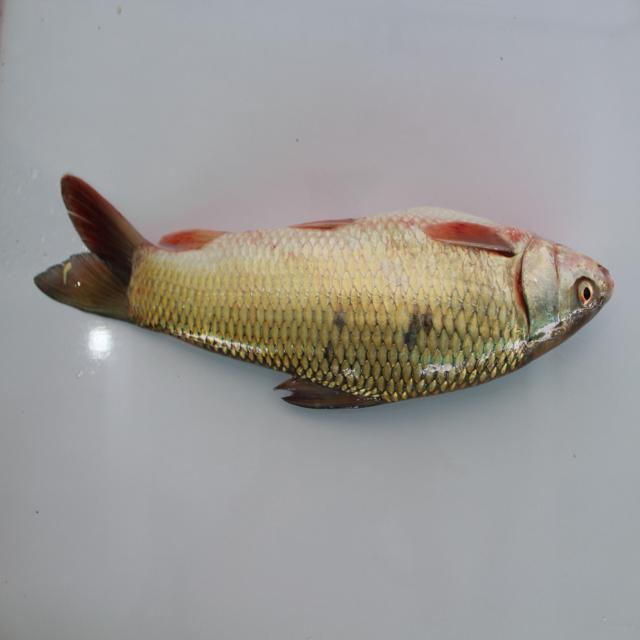Mori: (42, 170, 619, 417)
